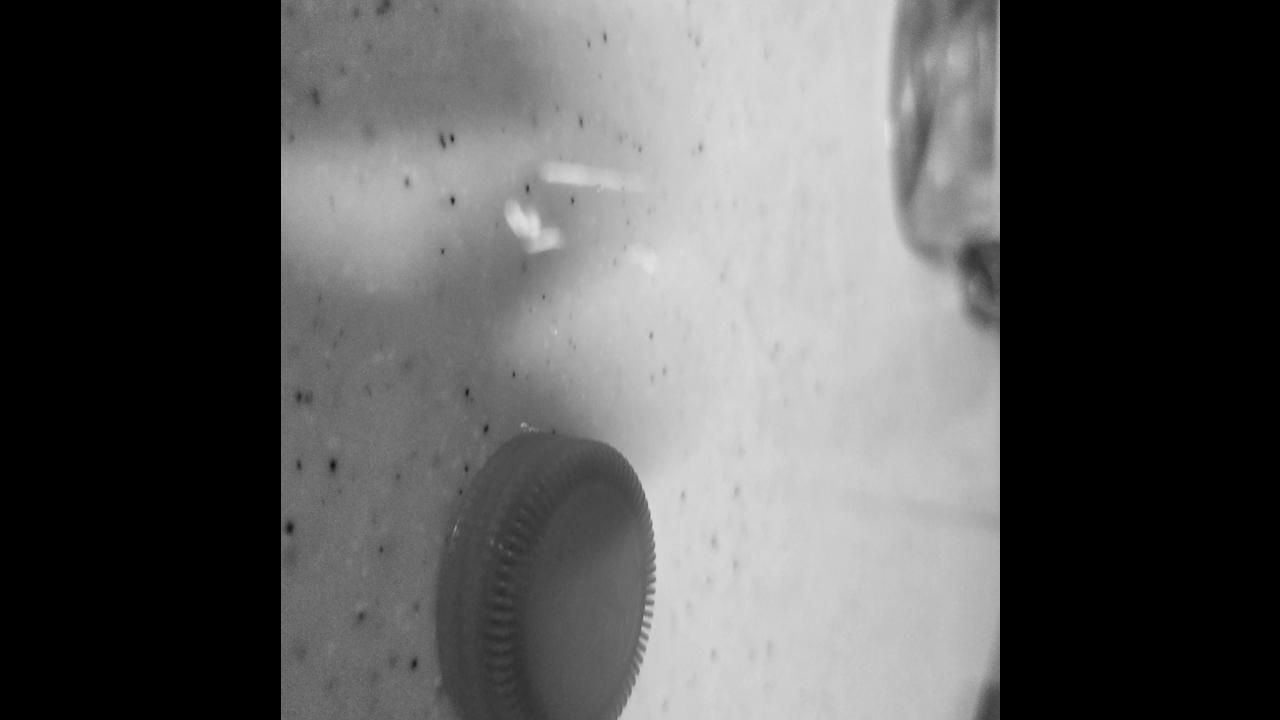bottle_cap: (437, 424, 657, 720)
